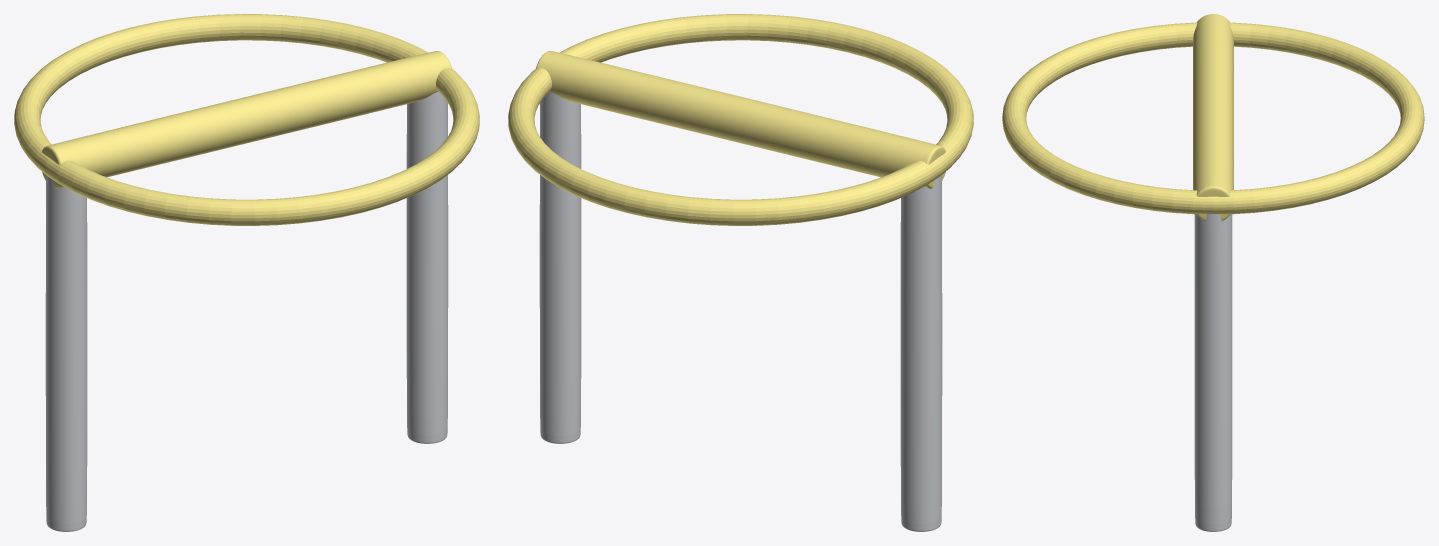
File: Toy_VaultRail_105_Hi.fbx
The picture shows the model from 3 angles, left to right: view 1: azimuth 30°, elevation 25°; view 2: azimuth 150°, elevation 25°; view 3: azimuth 270°, elevation 25°; orthographic projection. The views are drawn at different scales.
Visible parts, largest first — view 1: Lip, Rail, Post_-0.55, Post_0.55; view 2: Lip, Rail, Post_-0.55, Post_0.55; view 3: Lip, Post_0.55, Rail.
Boxes of the visible parts, x1=… form: Lip: x1=14, y1=14, x2=479, y2=225; Rail: x1=42, y1=51, x2=451, y2=188; Post_-0.55: x1=45, y1=175, x2=87, y2=531; Post_0.55: x1=406, y1=92, x2=448, y2=443; Lip: x1=508, y1=14, x2=973, y2=225; Rail: x1=536, y1=51, x2=945, y2=188; Post_-0.55: x1=900, y1=175, x2=942, y2=531; Post_0.55: x1=539, y1=92, x2=581, y2=443; Lip: x1=1002, y1=22, x2=1424, y2=214; Post_0.55: x1=1194, y1=214, x2=1232, y2=531; Rail: x1=1193, y1=14, x2=1233, y2=220.
Size of the model in its own units: 1.23 by 1.11 by 1.23.
